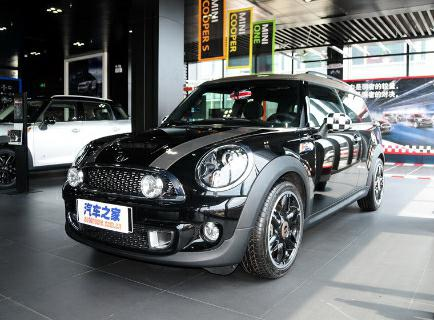MINI CLUBMAN: (67, 84, 378, 280), (0, 96, 145, 180)
